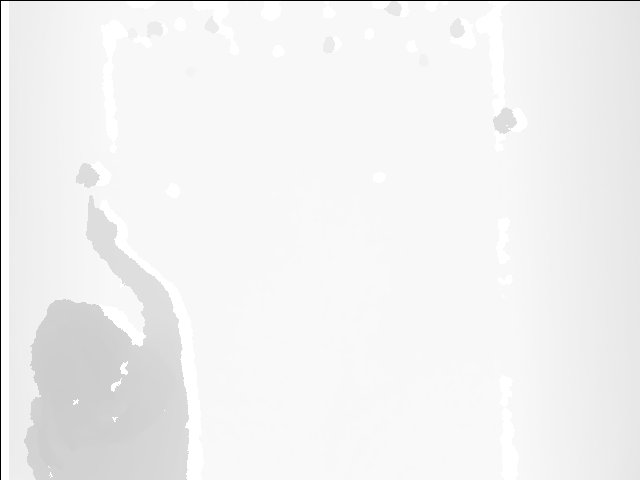hand: (83, 192, 120, 252)
